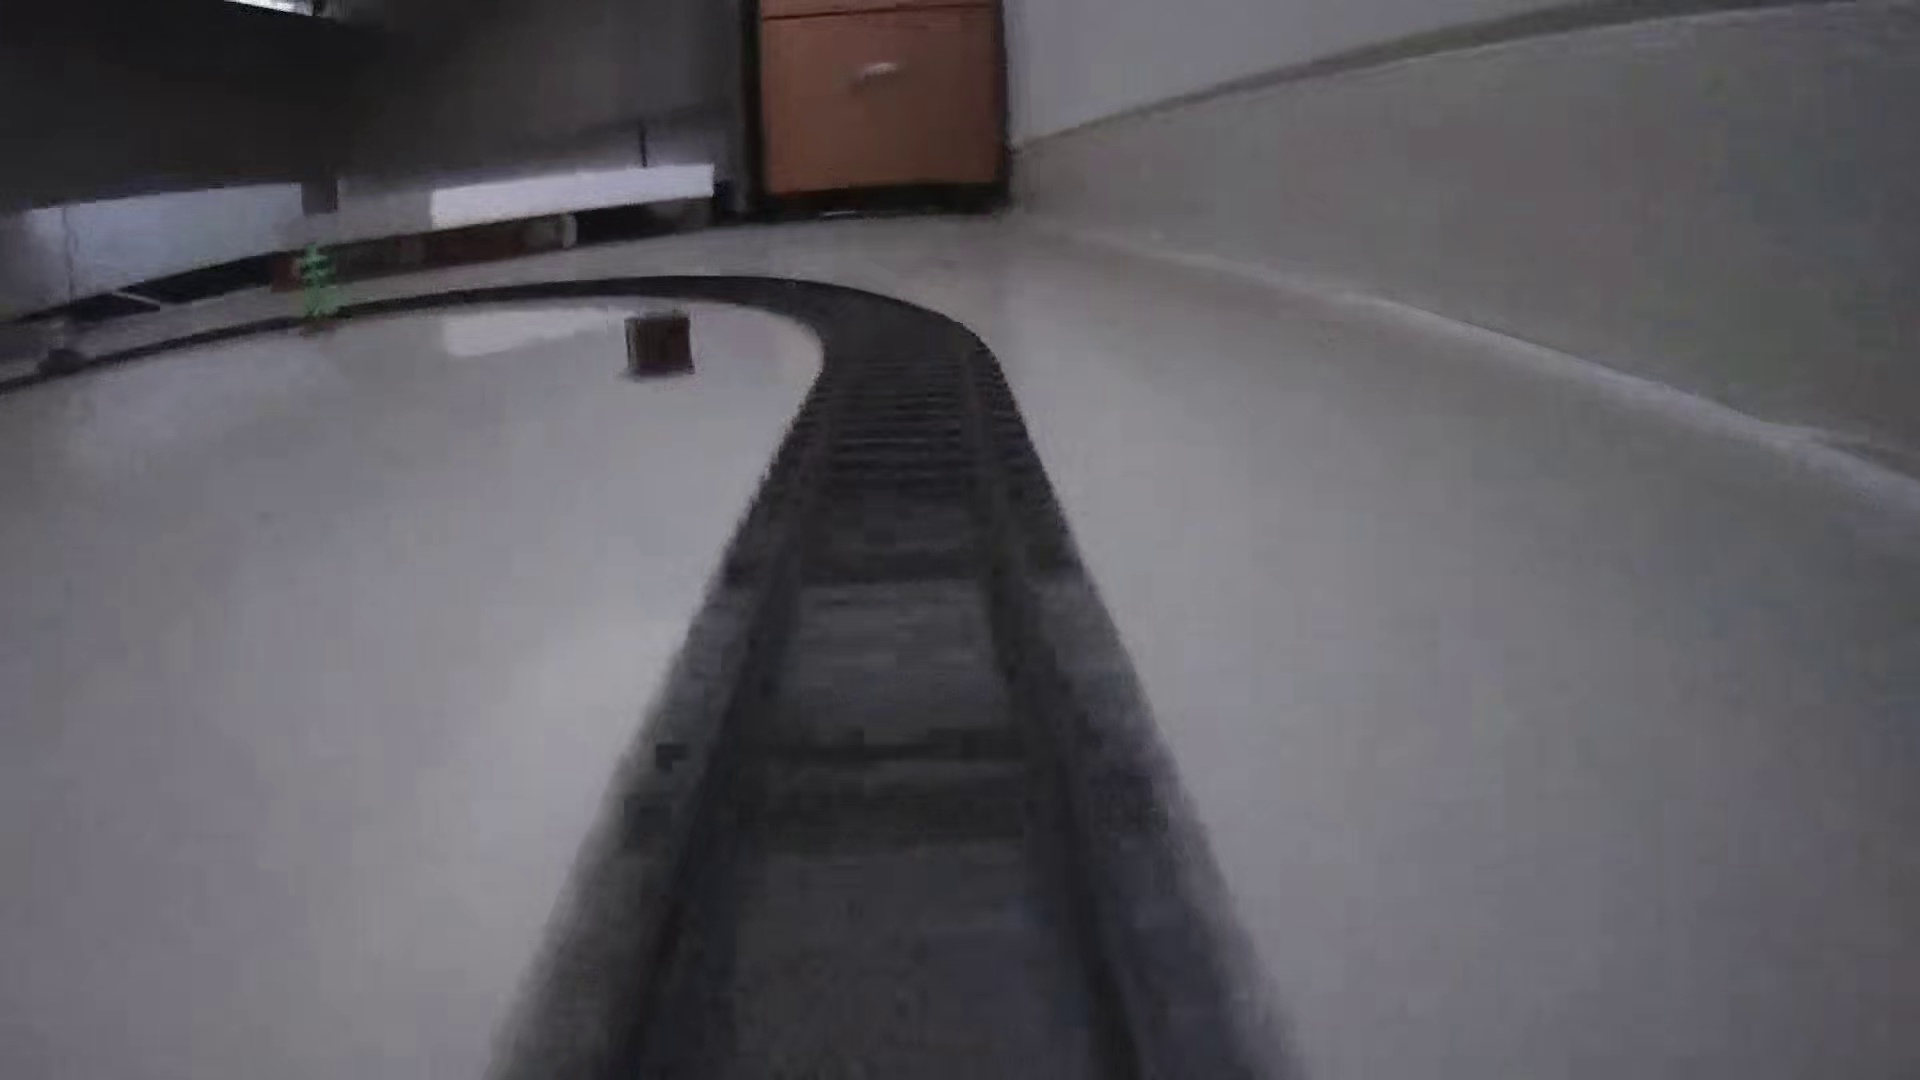box: (620, 306, 696, 380)
tree: (287, 235, 347, 338)
